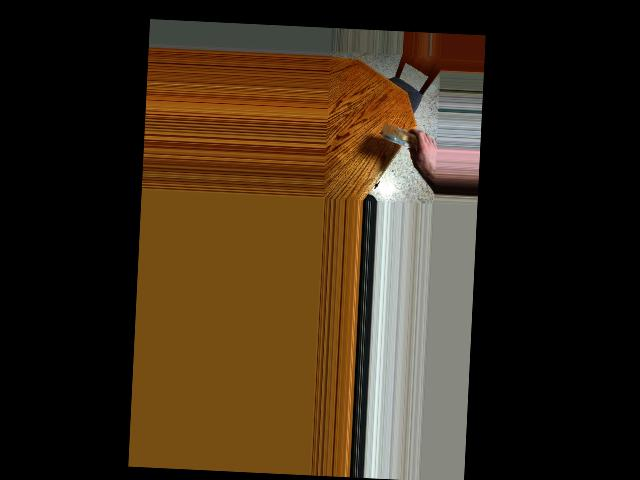cheese: (385, 121, 418, 150)
